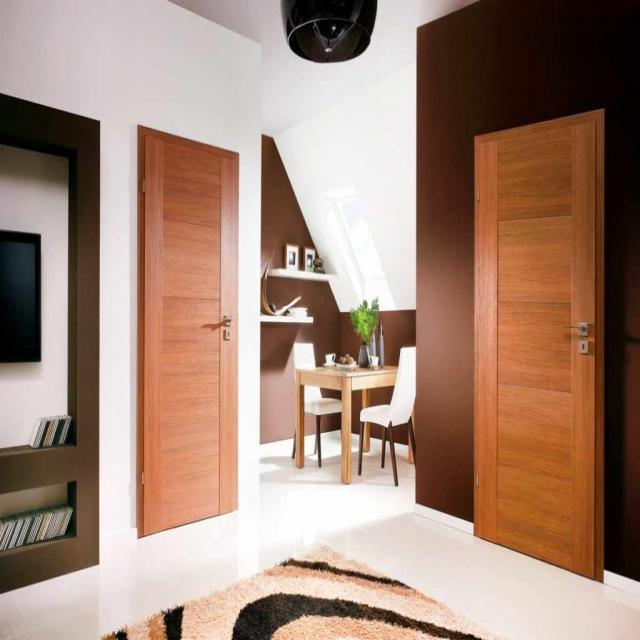close: (474, 142, 606, 578), (143, 133, 239, 524)
